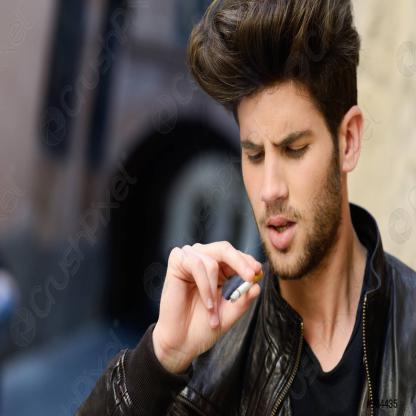cigarette: (229, 280, 253, 304)
person: (75, 1, 415, 415)
